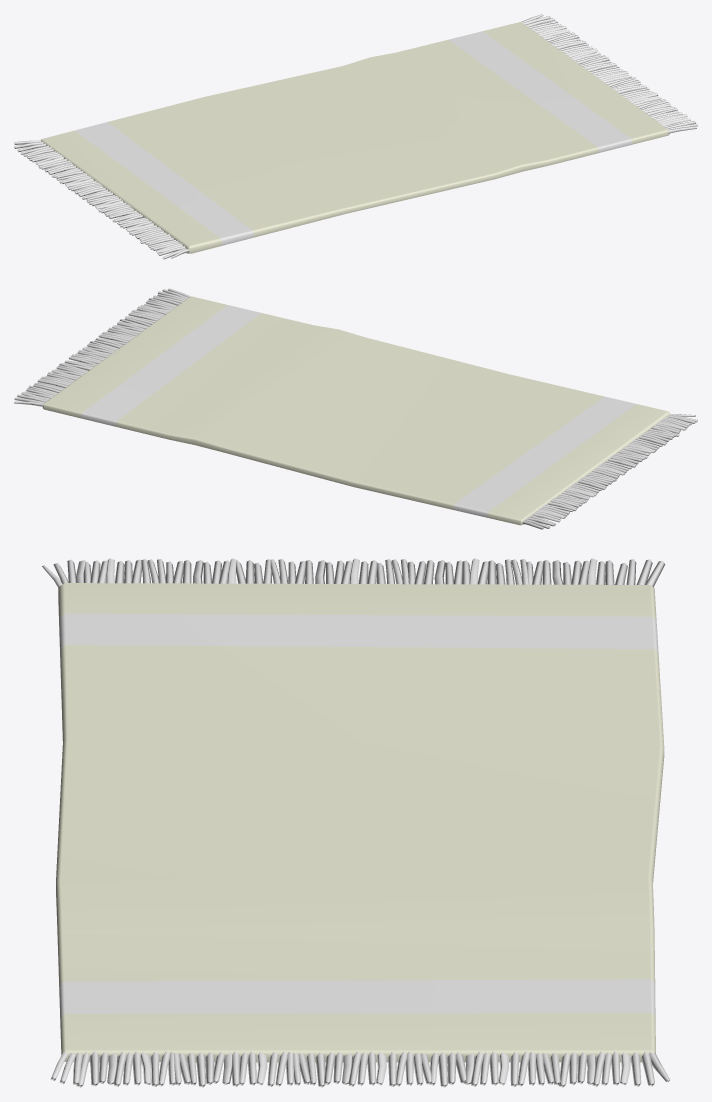
The model's file is Rug6.fbx.
3 renders of one model, top to bottom at view 1: azimuth 30°, elevation 25°; view 2: azimuth 150°, elevation 25°; view 3: azimuth 270°, elevation 25°, orthographic. The views are drawn at different scales.
Parts seen in each view (by area): view 1: Rug6; view 2: Rug6; view 3: Rug6.
Part boxes in pixels (x1,y1,x2,y2): Rug6: [14, 14, 697, 259]; Rug6: [14, 288, 697, 529]; Rug6: [42, 558, 669, 1087].
Size of the model in its own units: 3.3 by 0.0468 by 1.67.
